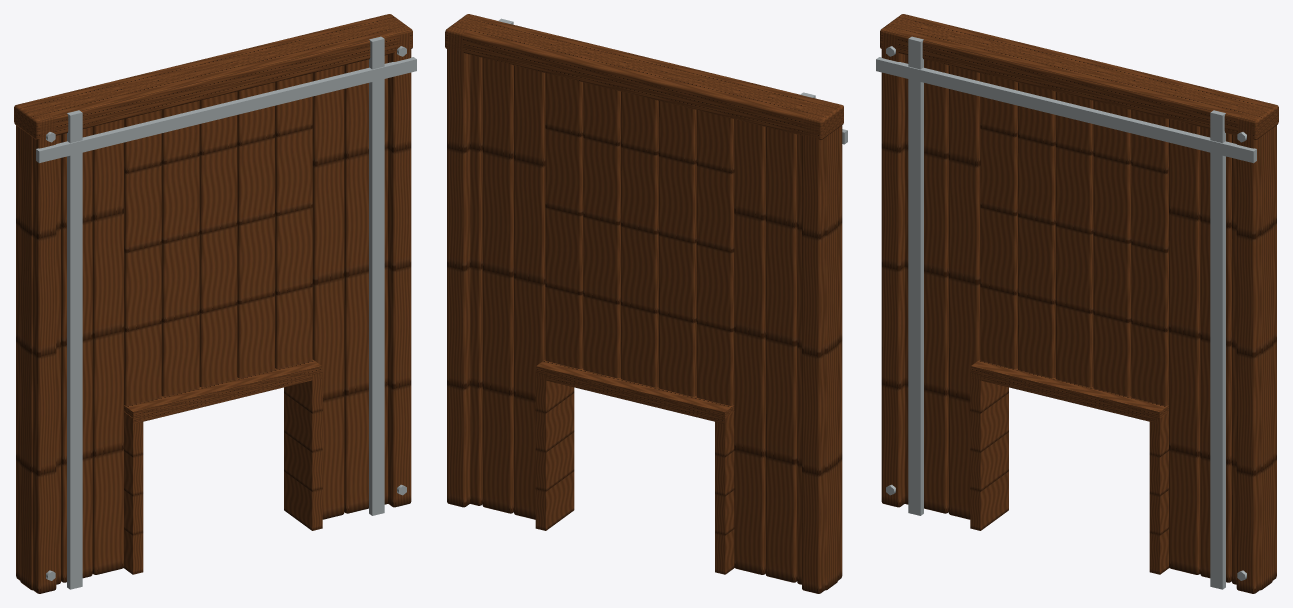
File: modular-survival-base-builder-wall-low-pass-through-re-cd56b6ba__24292.glb
3 renders of one model, left to right at view 1: azimuth 30°, elevation 25°; view 2: azimuth 150°, elevation 25°; view 3: azimuth 330°, elevation 25°, orthographic.
Visible parts, largest first — view 1: wall-low-pass-through-reinforced; view 2: wall-low-pass-through-reinforced; view 3: wall-low-pass-through-reinforced.
Part boxes in pixels (x1,y1,x2,y2): wall-low-pass-through-reinforced: (14,14,416,593); wall-low-pass-through-reinforced: (445,14,847,593); wall-low-pass-through-reinforced: (876,14,1278,593).
Size of the model in its own units: 2 by 2.4 by 0.262.
2 materials, 1 textured.
